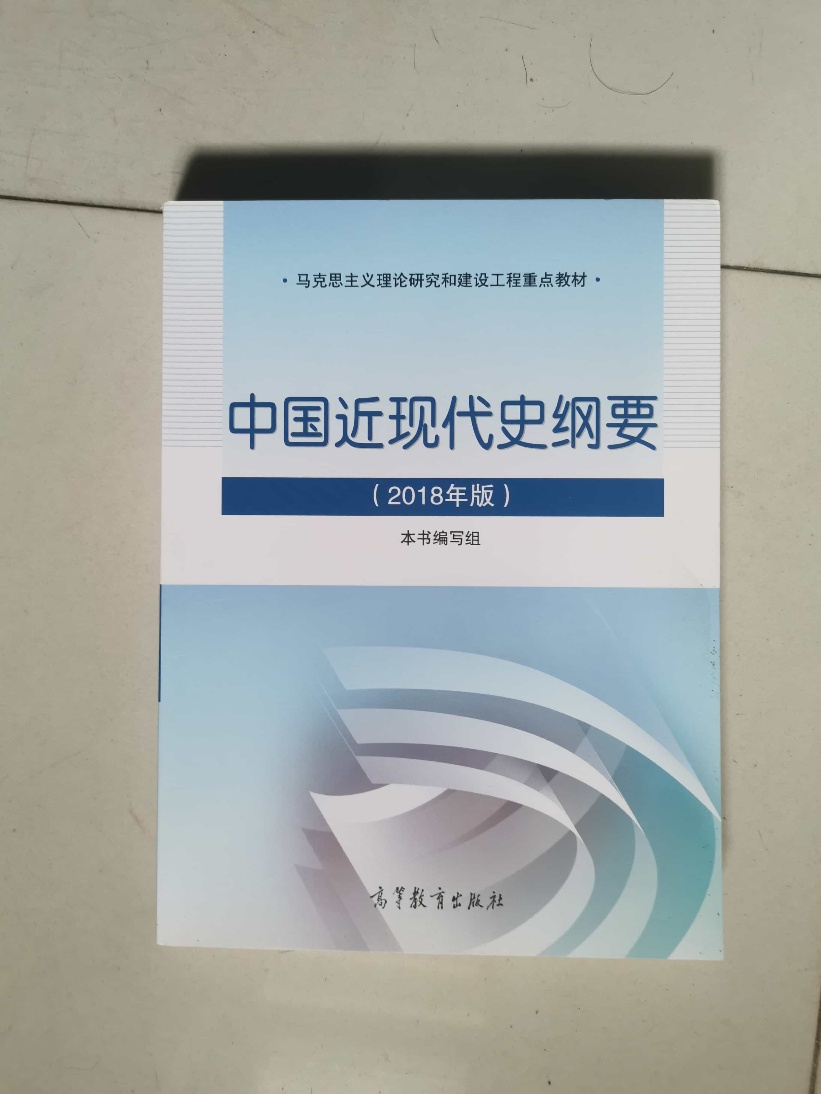book: (140, 181, 739, 980)
